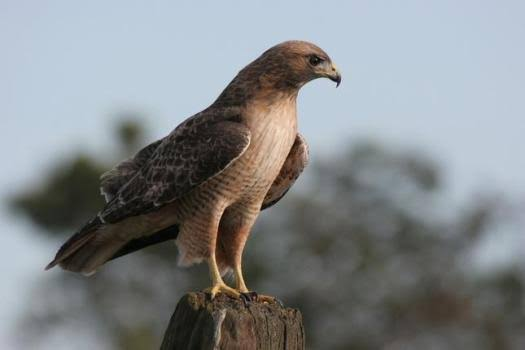nontarget: (50, 6, 378, 333)
